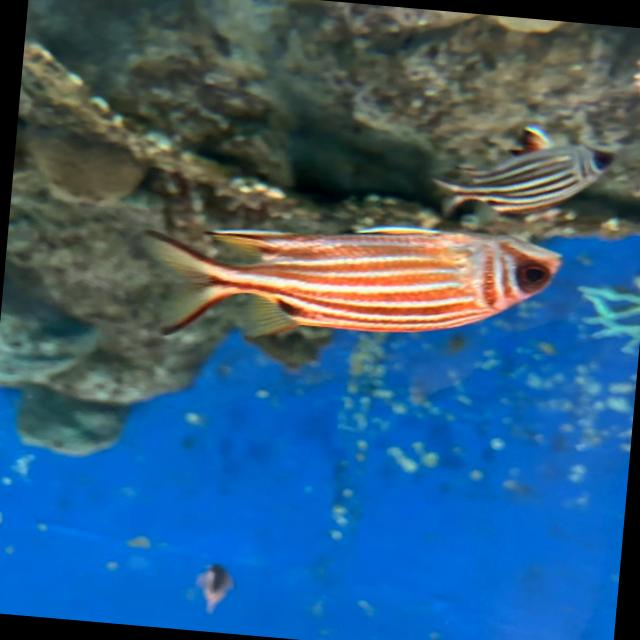Asker Baligi: (117, 192, 588, 380)
